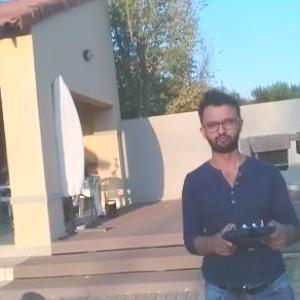follow: (173, 89, 300, 299)
